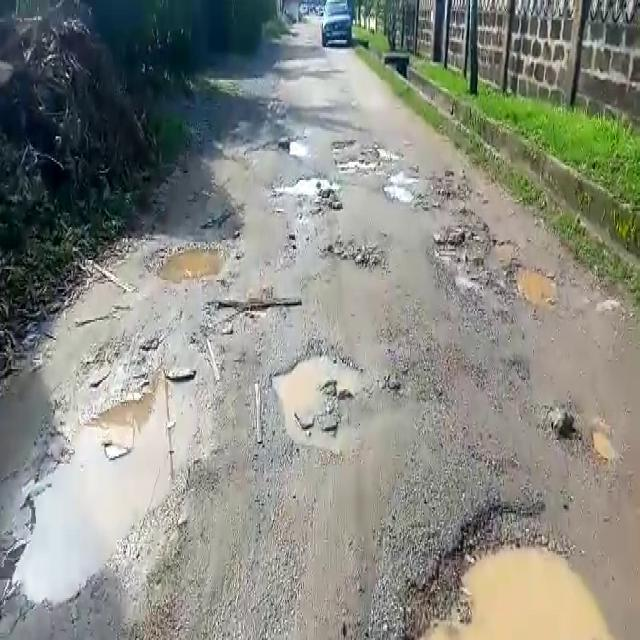pothole: (9, 367, 212, 603), (394, 492, 613, 640), (428, 221, 540, 310), (266, 345, 364, 446), (143, 236, 230, 283), (199, 293, 299, 332), (506, 264, 558, 309), (290, 178, 345, 213), (322, 237, 384, 268), (271, 171, 337, 198), (381, 171, 430, 206), (331, 147, 395, 171)
